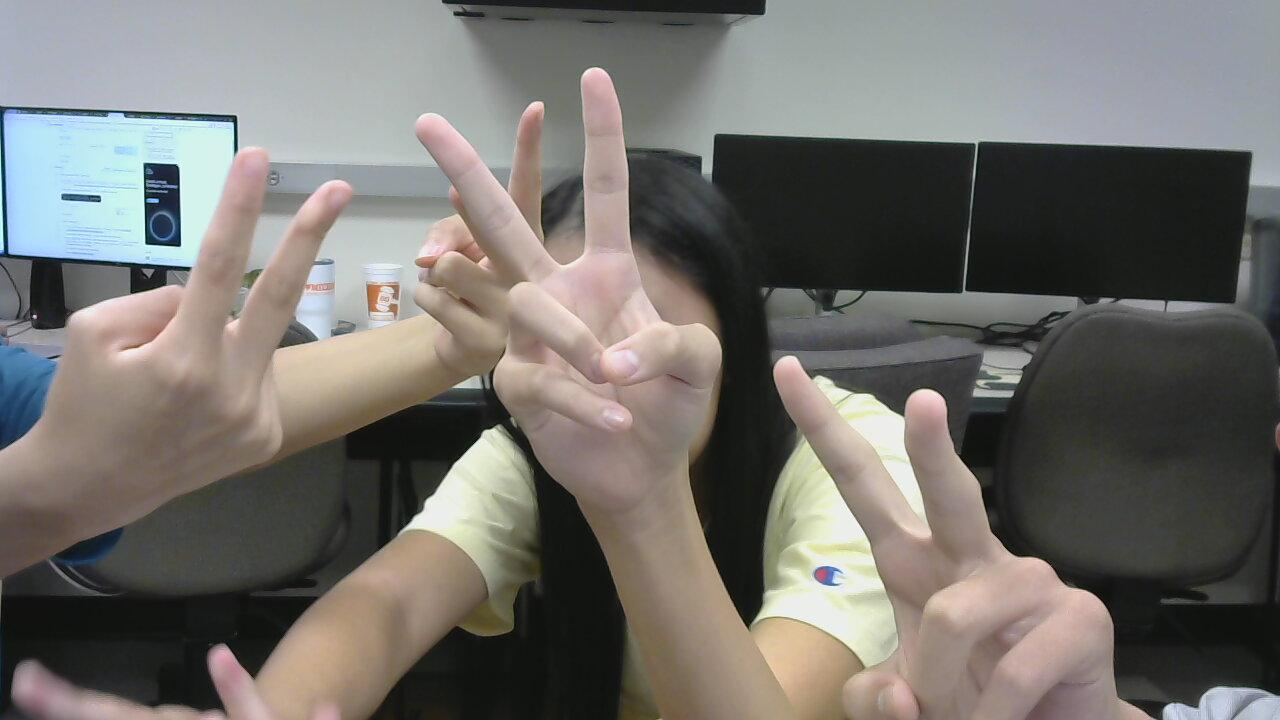peace: (757, 320, 1117, 720), (404, 83, 757, 472), (49, 132, 340, 500)
